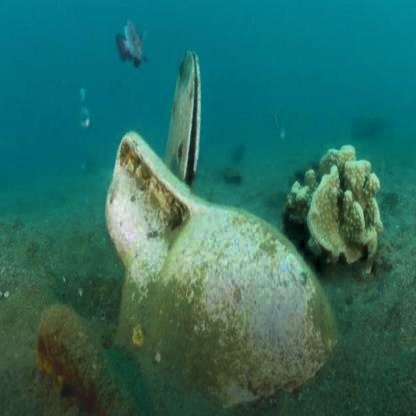misc: (126, 141, 343, 416)
